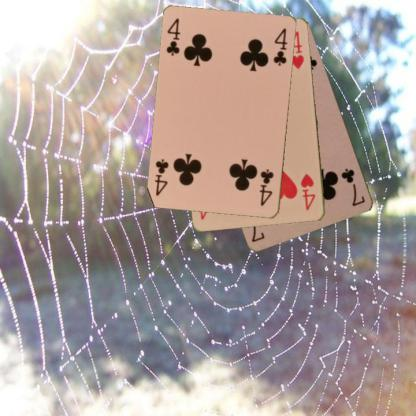4c: (164, 16, 182, 57), (257, 167, 275, 207)
4h: (298, 171, 317, 212)
7c: (338, 166, 367, 208)
